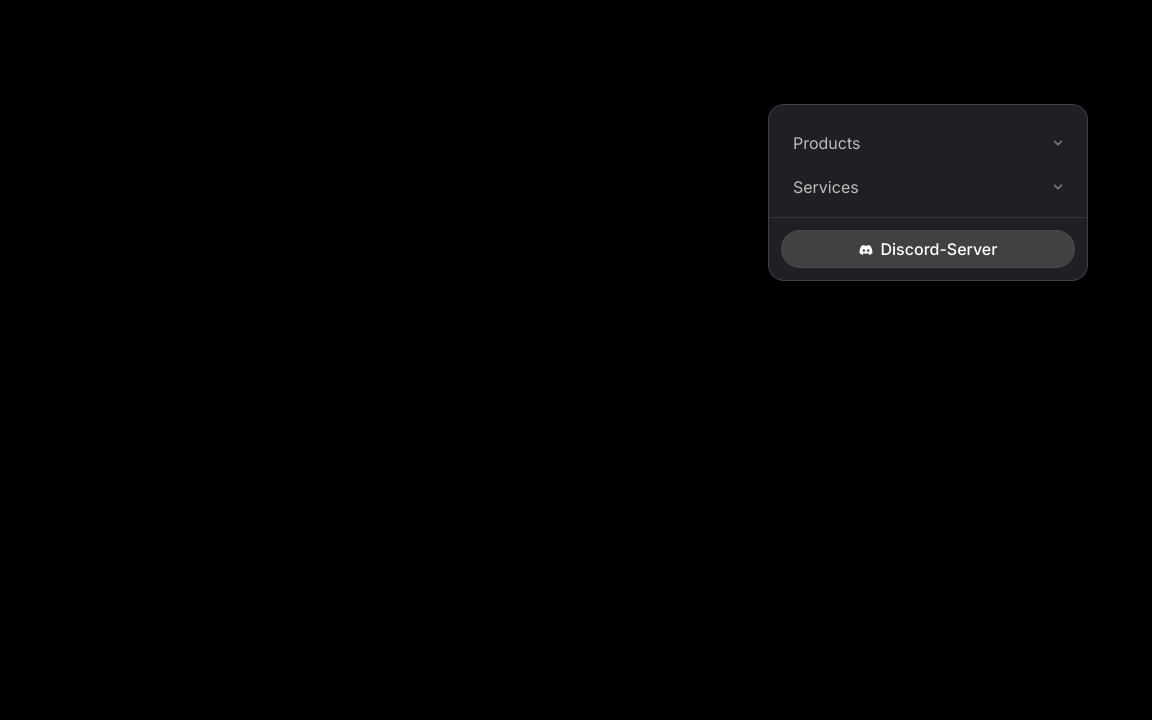
Scenario: HeaderMobileNav › should toggle expanded item when button is clicked
Expand first item
Click the button "Products" at (827, 143), box [769,121,1087,165]
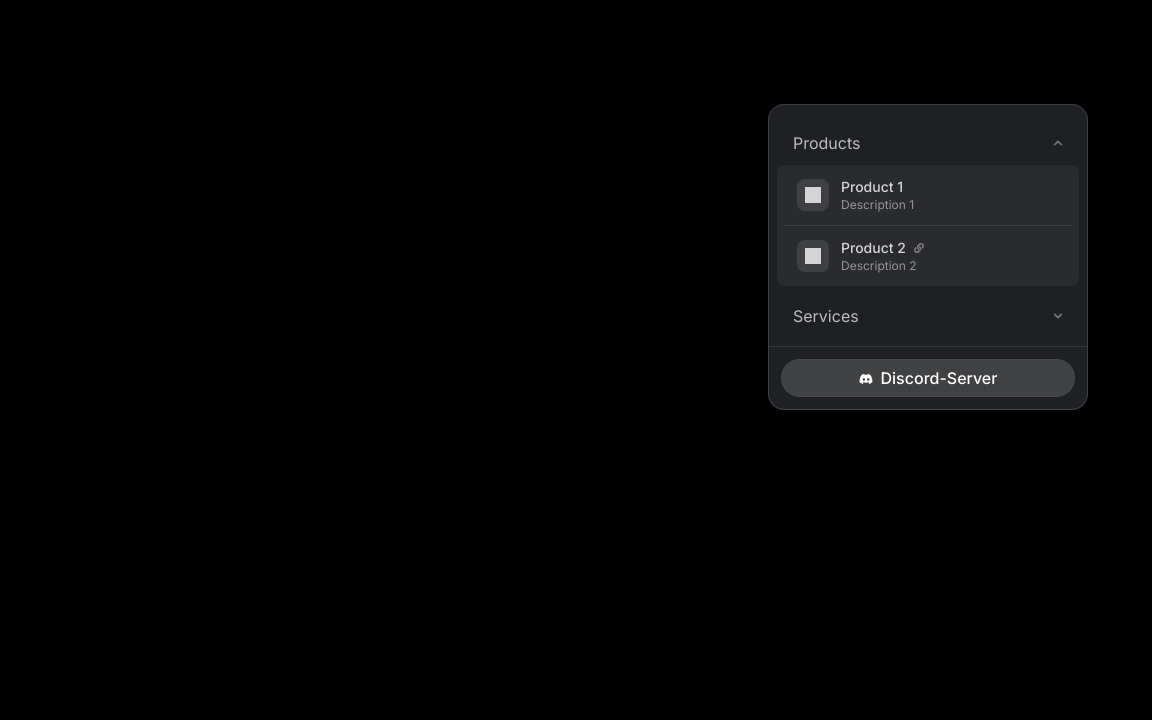
Expected: the button "Products" is expanded
Collapse first item by clicking again
Click the button "Products" at (827, 143), box [769,121,1087,165]
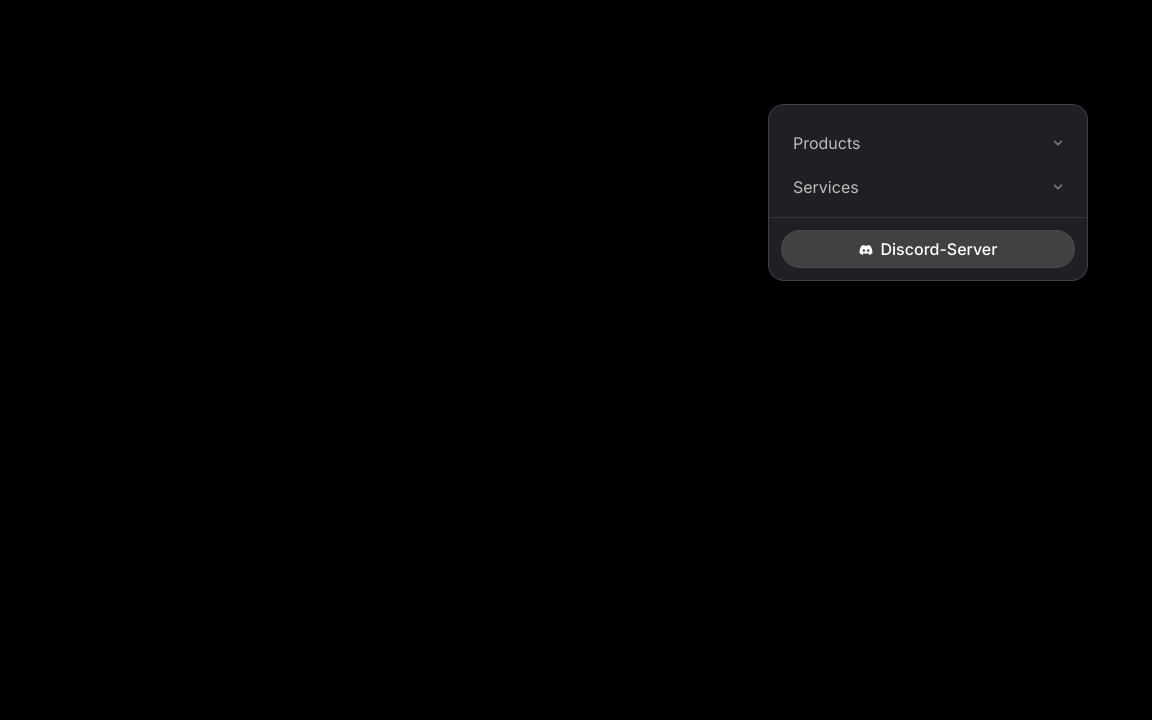
Expected: the button "Products" is collapsed, [769,121,1087,165]
